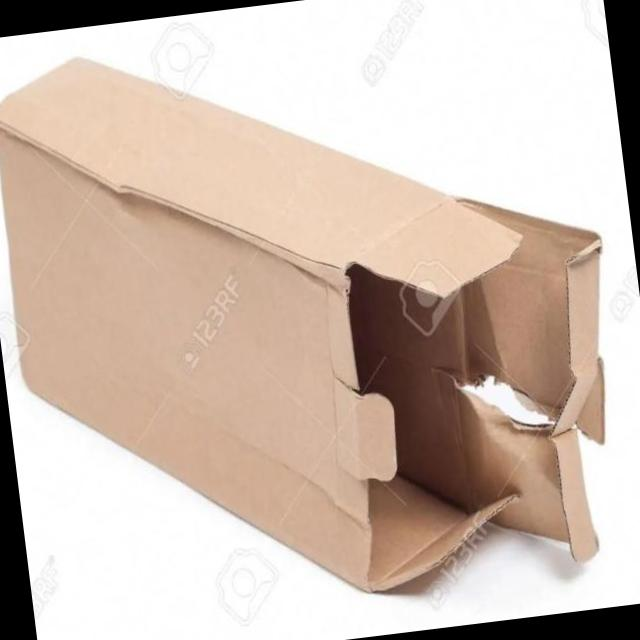box: (3, 54, 608, 593)
tear: (442, 362, 584, 440)
